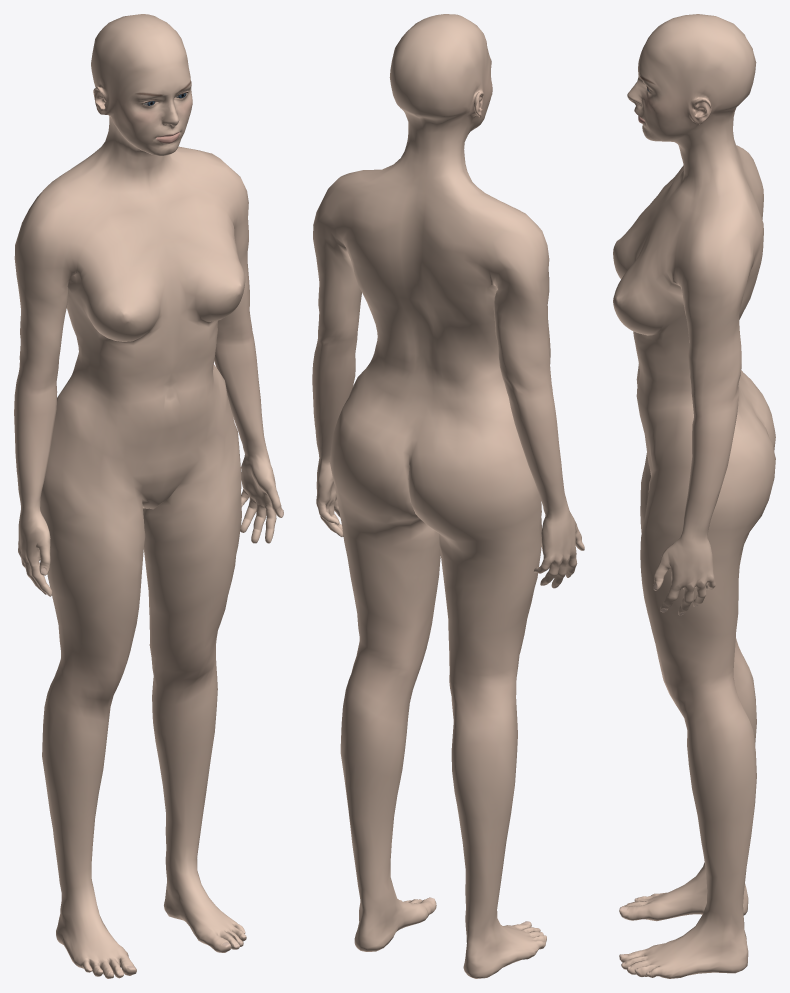
File: female_A_motion.glb
3 views of the same model, side by side, from view 1: azimuth 30°, elevation 25°; view 2: azimuth 150°, elevation 25°; view 3: azimuth 270°, elevation 25° (orthographic).
Visible parts, largest first — view 1: basemesh_female_body; view 2: basemesh_female_body; view 3: basemesh_female_body.
Part boxes in pixels (x1,y1,x2,y2): basemesh_female_body: [14, 14, 283, 978]; basemesh_female_body: [312, 14, 584, 978]; basemesh_female_body: [613, 14, 775, 978].
Size of the model in its own units: 0.4716 by 1.67 by 0.2674.
Materials: 3 (2 with a texture image).
